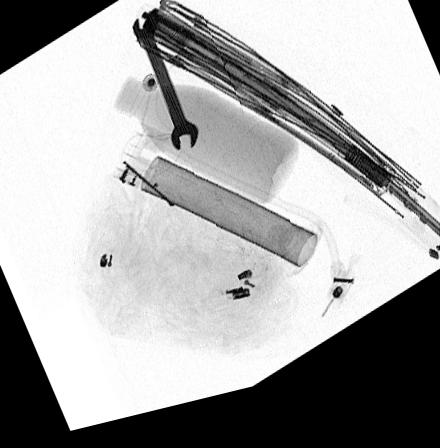Wrench: (129, 16, 200, 161)
